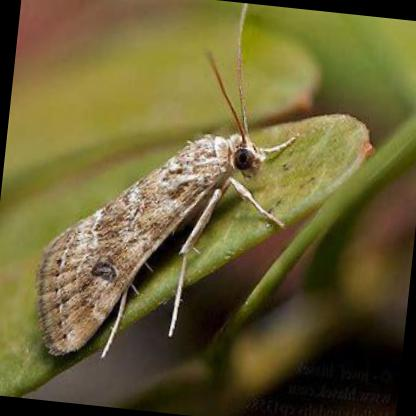Hellula undalis: (31, 9, 302, 370)
